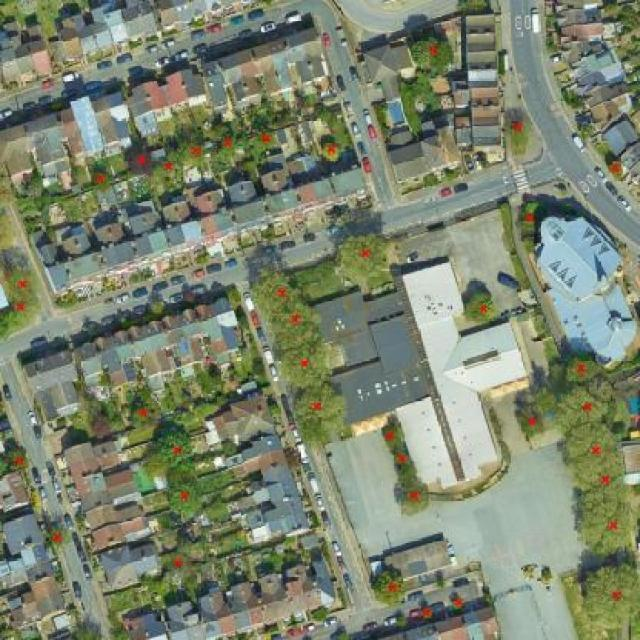tree: (575, 558, 640, 631), (571, 491, 640, 558), (290, 384, 353, 448), (565, 453, 638, 502), (559, 418, 621, 472), (270, 297, 325, 351), (336, 232, 392, 285), (282, 339, 333, 395), (254, 266, 308, 317), (556, 385, 616, 429), (151, 426, 197, 474), (410, 34, 456, 78), (370, 567, 410, 610), (165, 477, 204, 520), (462, 288, 501, 326), (0, 295, 40, 332), (395, 480, 433, 518), (562, 353, 607, 384), (4, 266, 41, 303), (515, 198, 551, 232), (179, 135, 210, 171), (126, 146, 159, 179), (126, 397, 157, 432), (43, 521, 75, 554), (156, 150, 187, 182), (0, 444, 32, 475), (519, 409, 546, 440), (17, 173, 46, 201), (215, 129, 241, 160), (251, 126, 278, 154), (88, 411, 114, 440), (89, 170, 118, 195), (138, 573, 169, 596), (69, 620, 103, 640), (320, 140, 346, 166), (381, 423, 402, 452), (165, 551, 191, 574), (456, 0, 489, 18), (68, 163, 90, 189), (606, 156, 628, 181), (250, 355, 272, 379), (511, 117, 535, 138), (314, 105, 337, 126), (311, 602, 332, 625), (265, 398, 284, 420), (392, 448, 413, 467), (310, 605, 330, 624), (221, 440, 241, 458), (620, 2, 638, 22), (149, 298, 168, 316), (601, 0, 620, 18), (236, 313, 253, 332), (110, 626, 133, 640), (419, 604, 436, 622), (450, 596, 467, 613), (182, 289, 199, 306), (395, 616, 410, 630), (195, 252, 208, 268), (336, 629, 352, 640)
